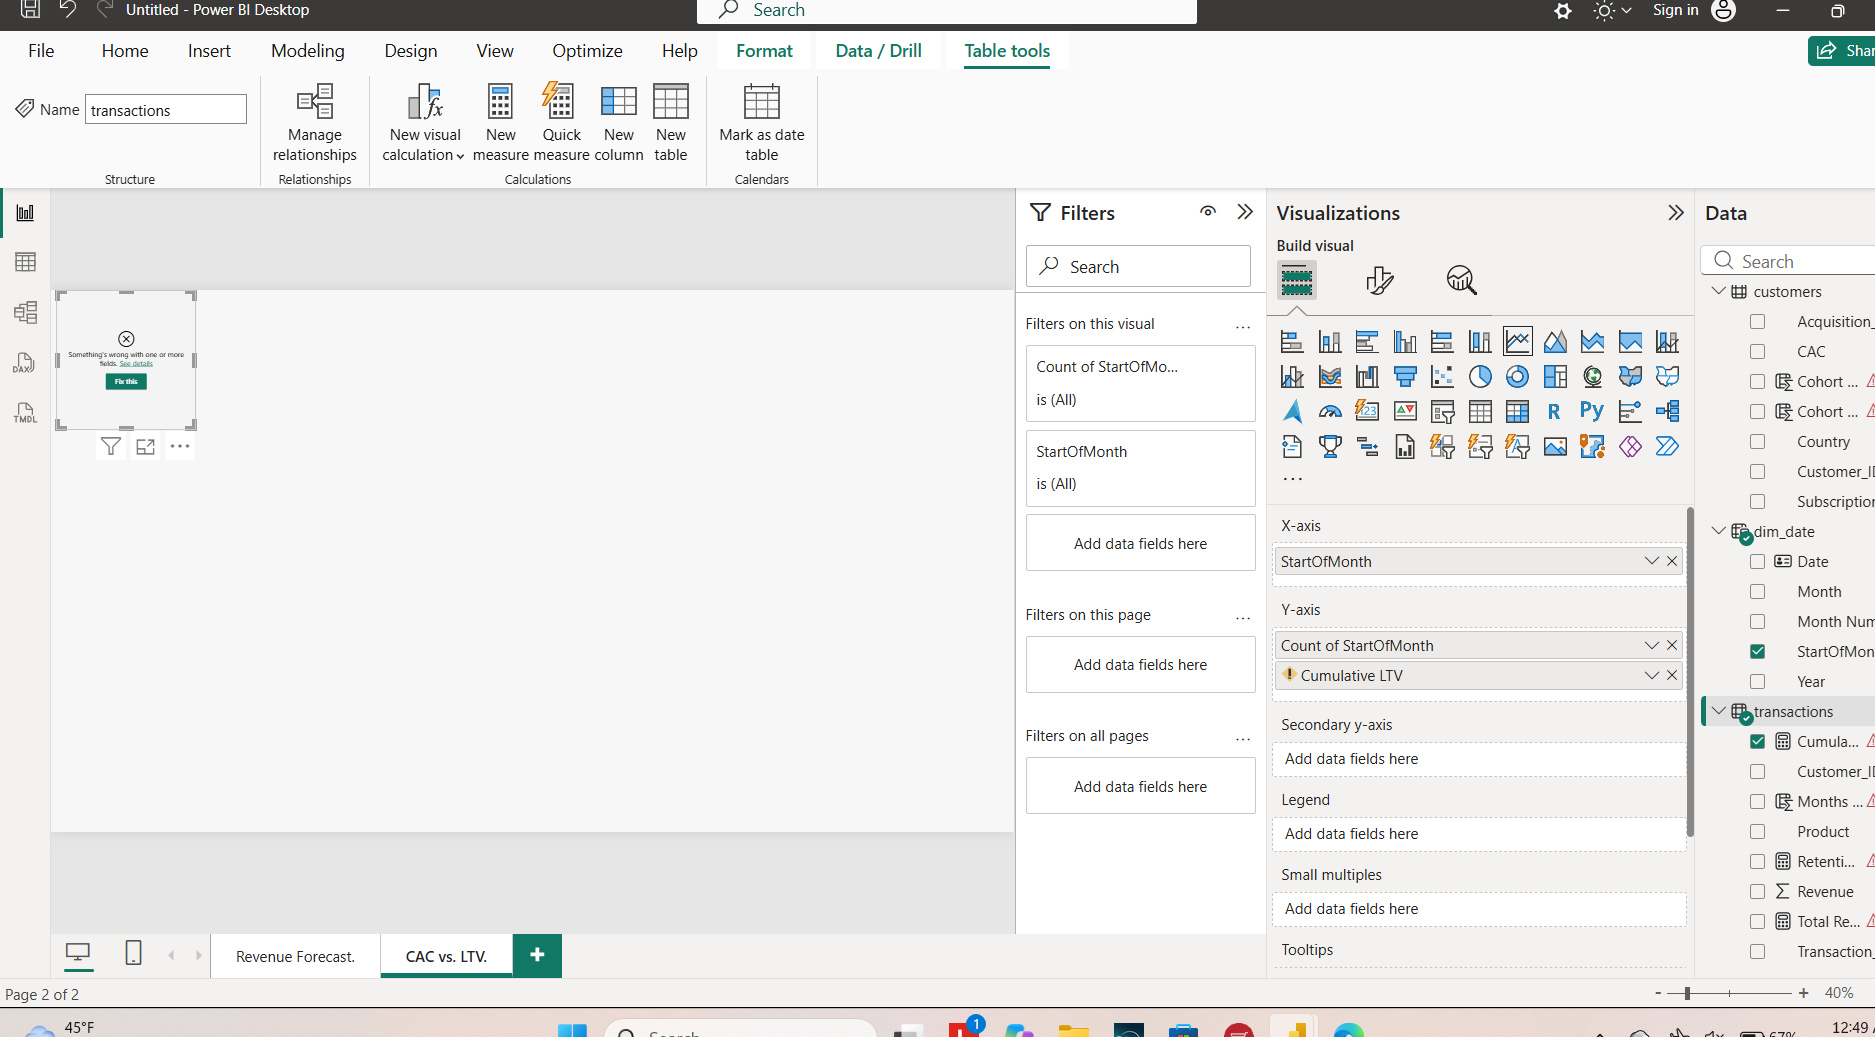

The dashboard page shown, as its layout file describes it:
{"tool":"powerbi","page":{"name":"CAC vs. LTV.","canvas":[1920,1080],"ordinal":1},"visuals":[{"type":"lineChart","fields":{"Category":["dim_date.StartOfMonth"],"Y":["CountNonNull(dim_date.StartOfMonth)"]},"box":[10,0,280,280],"z":0}]}

Visuals, with their boxes on the page's 1920x1080 design canvas (x1, y1, x2, y2). These are canvas units, not pixel positions in the 1875x1037 screenshot, which may show the page scaled, cropped or inside an application window:
lineChart - dim_date.StartOfMonth x CountNonNull(dim_date.StartOfMonth): x1=10, y1=0, x2=290, y2=280
